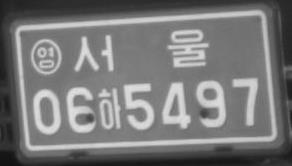0: (31, 88, 62, 136)
4: (160, 81, 191, 128)
5: (122, 81, 155, 131)
6: (65, 86, 97, 134)
7: (231, 77, 259, 126)
9: (196, 79, 227, 128)
서울_D: (73, 28, 208, 73)
영: (29, 37, 62, 75)
하: (97, 86, 121, 129)
